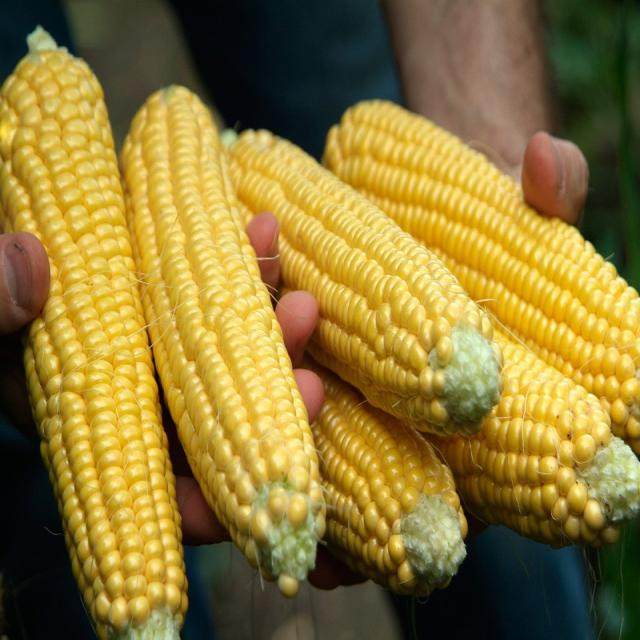corn: (322, 75, 640, 443), (113, 73, 336, 595), (0, 35, 182, 640), (218, 116, 502, 438), (446, 318, 640, 569), (294, 356, 469, 604)
